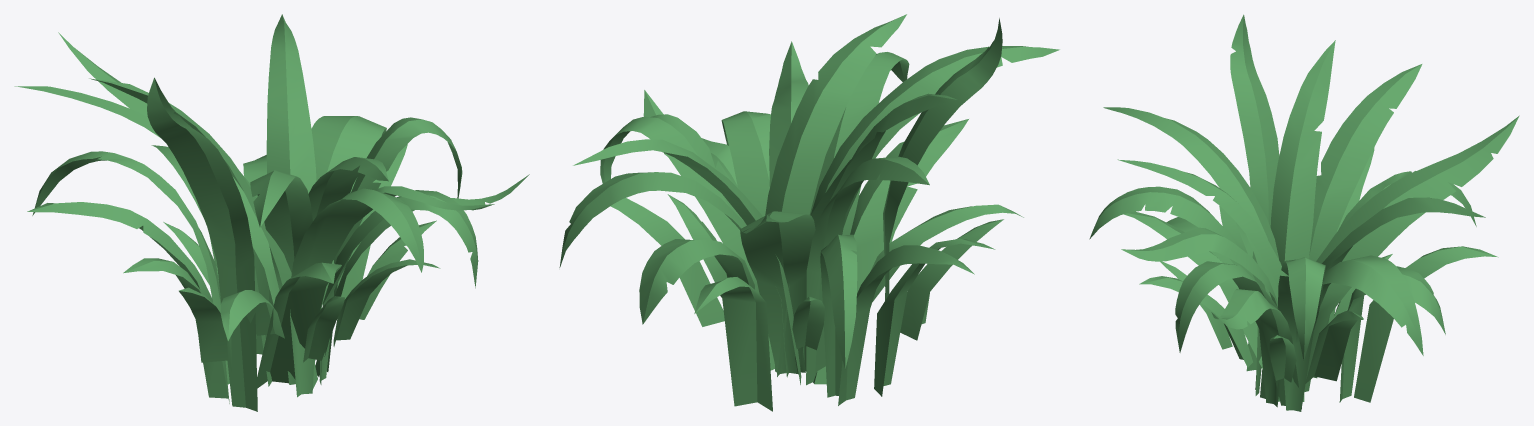
File: plant_dracaena_giant_A.fbx
The picture shows the model from 3 angles, left to right: view 1: azimuth 30°, elevation 25°; view 2: azimuth 150°, elevation 25°; view 3: azimuth 270°, elevation 25°; orthographic projection. The views are drawn at different scales.
Parts seen in each view (by area): view 1: plant_dracaena_giant_A_leaf_D, plant_dracaena_giant_A_leaf_K, plant_dracaena_giant_A_leaf_G, plant_dracaena_giant_A_leaf_O, plant_dracaena_giant_A_leaf_E, plant_dracaena_giant_A_leaf_L, plant_dracaena_giant_A_leaf_P, plant_dracaena_giant_A_leaf_J, plant_dracaena_giant_A_leaf_I, plant_dracaena_giant_A_leaf_R, plant_dracaena_giant_A_leaf_B, plant_dracaena_giant_A_leaf_F (+14 smaller); view 2: plant_dracaena_giant_A_leaf_F, plant_dracaena_giant_A_leaf_B, plant_dracaena_giant_A_leaf_Q, plant_dracaena_giant_A_leaf_E, plant_dracaena_giant_A_leaf_D, plant_dracaena_giant_A_leaf_P, plant_dracaena_giant_A_leaf_C, plant_dracaena_giant_A_leaf_O, plant_dracaena_giant_A_leaf_I, plant_dracaena_giant_A_leaf_L, plant_dracaena_giant_A_leaf_N, plant_dracaena_giant_A_leaf_J (+12 smaller); view 3: plant_dracaena_giant_A_leaf_A, plant_dracaena_giant_A_leaf_B, plant_dracaena_giant_A_leaf_C, plant_dracaena_giant_A_leaf_D, plant_dracaena_giant_A_leaf_I, plant_dracaena_giant_A_leaf_E, plant_dracaena_giant_A_leaf_L, plant_dracaena_giant_A_leaf_J, plant_dracaena_giant_A_leaf_Q, plant_dracaena_giant_A_leaf_G, plant_dracaena_giant_A_leaf_H, plant_dracaena_giant_A_leaf_F (+12 smaller).
Part boxes in pixels (left/top/right/bottom): plant_dracaena_giant_A_leaf_D: left=147, top=77, right=257, bottom=411; plant_dracaena_giant_A_leaf_K: left=266, top=14, right=316, bottom=306; plant_dracaena_giant_A_leaf_G: left=290, top=188, right=423, bottom=397; plant_dracaena_giant_A_leaf_O: left=257, top=262, right=341, bottom=388; plant_dracaena_giant_A_leaf_E: left=250, top=170, right=312, bottom=384; plant_dracaena_giant_A_leaf_L: left=311, top=116, right=386, bottom=362; plant_dracaena_giant_A_leaf_P: left=32, top=151, right=229, bottom=384; plant_dracaena_giant_A_leaf_J: left=319, top=190, right=478, bottom=384; plant_dracaena_giant_A_leaf_I: left=322, top=117, right=462, bottom=371; plant_dracaena_giant_A_leaf_R: left=27, top=202, right=212, bottom=302; plant_dracaena_giant_A_leaf_B: left=58, top=32, right=279, bottom=304; plant_dracaena_giant_A_leaf_F: left=308, top=157, right=388, bottom=220; plant_dracaena_giant_A_leaf_F: left=765, top=14, right=906, bottom=372; plant_dracaena_giant_A_leaf_B: left=740, top=211, right=815, bottom=374; plant_dracaena_giant_A_leaf_Q: left=694, top=277, right=772, bottom=411; plant_dracaena_giant_A_leaf_E: left=804, top=46, right=1059, bottom=369; plant_dracaena_giant_A_leaf_D: left=883, top=18, right=1002, bottom=300; plant_dracaena_giant_A_leaf_P: left=820, top=234, right=857, bottom=397; plant_dracaena_giant_A_leaf_C: left=806, top=156, right=929, bottom=385; plant_dracaena_giant_A_leaf_O: left=805, top=119, right=968, bottom=384; plant_dracaena_giant_A_leaf_I: left=600, top=114, right=759, bottom=293; plant_dracaena_giant_A_leaf_L: left=559, top=172, right=788, bottom=377; plant_dracaena_giant_A_leaf_N: left=639, top=239, right=754, bottom=324; plant_dracaena_giant_A_leaf_J: left=721, top=111, right=770, bottom=216; plant_dracaena_giant_A_leaf_A: left=1260, top=40, right=1335, bottom=401; plant_dracaena_giant_A_leaf_B: left=1306, top=115, right=1519, bottom=378; plant_dracaena_giant_A_leaf_C: left=1309, top=64, right=1422, bottom=261; plant_dracaena_giant_A_leaf_D: left=1230, top=14, right=1279, bottom=371; plant_dracaena_giant_A_leaf_I: left=1278, top=257, right=1325, bottom=411; plant_dracaena_giant_A_leaf_E: left=1103, top=107, right=1278, bottom=301; plant_dracaena_giant_A_leaf_L: left=1291, top=255, right=1423, bottom=355; plant_dracaena_giant_A_leaf_J: left=1175, top=261, right=1280, bottom=407; plant_dracaena_giant_A_leaf_Q: left=1354, top=246, right=1498, bottom=402; plant_dracaena_giant_A_leaf_G: left=1089, top=186, right=1261, bottom=395; plant_dracaena_giant_A_leaf_H: left=1121, top=227, right=1278, bottom=309; plant_dracaena_giant_A_leaf_F: left=1117, top=159, right=1285, bottom=288.
Size of the model in its own units: 242 by 205 by 255.
